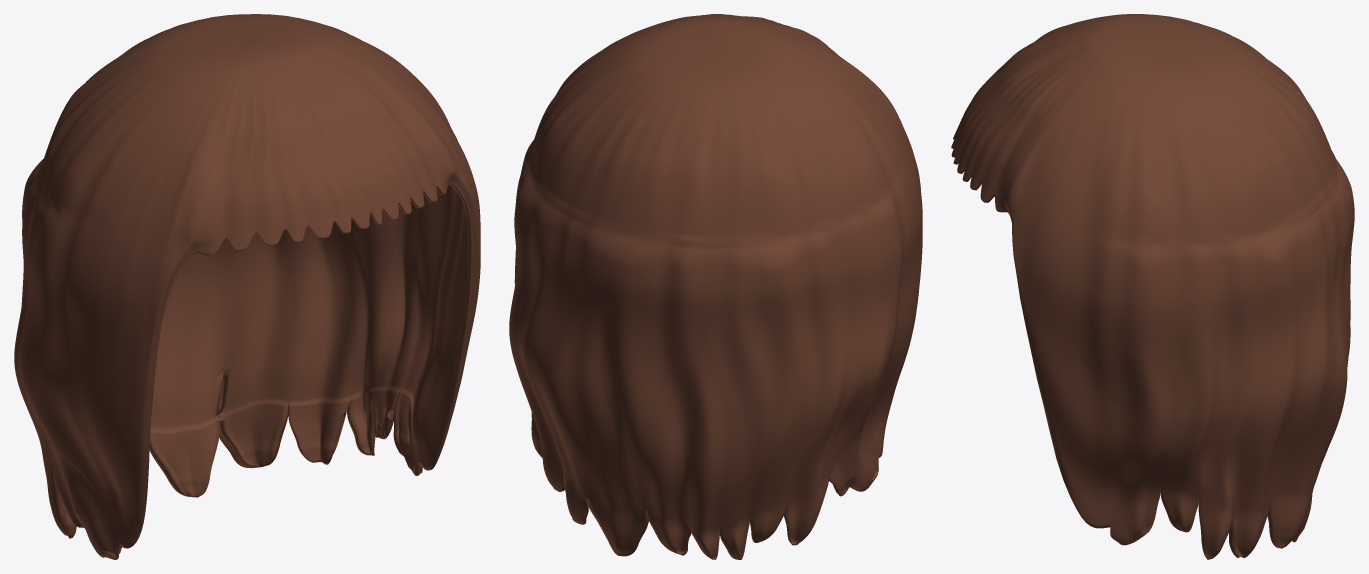
The model's file is long-bucket.glb.
The picture shows the model from 3 angles, left to right: view 1: azimuth 30°, elevation 25°; view 2: azimuth 150°, elevation 25°; view 3: azimuth 270°, elevation 25°; orthographic projection. The views are drawn at different scales.
Visible parts, largest first — view 1: Hair / rounded long fringe; view 2: Hair / rounded long fringe; view 3: Hair / rounded long fringe.
Boxes of the visible parts, x1,y1,x2,y2 form: Hair / rounded long fringe: [14, 14, 480, 559]; Hair / rounded long fringe: [509, 14, 922, 559]; Hair / rounded long fringe: [951, 14, 1354, 559].
Size of the model in its own units: 0.8536 by 1.05 by 0.7801.
